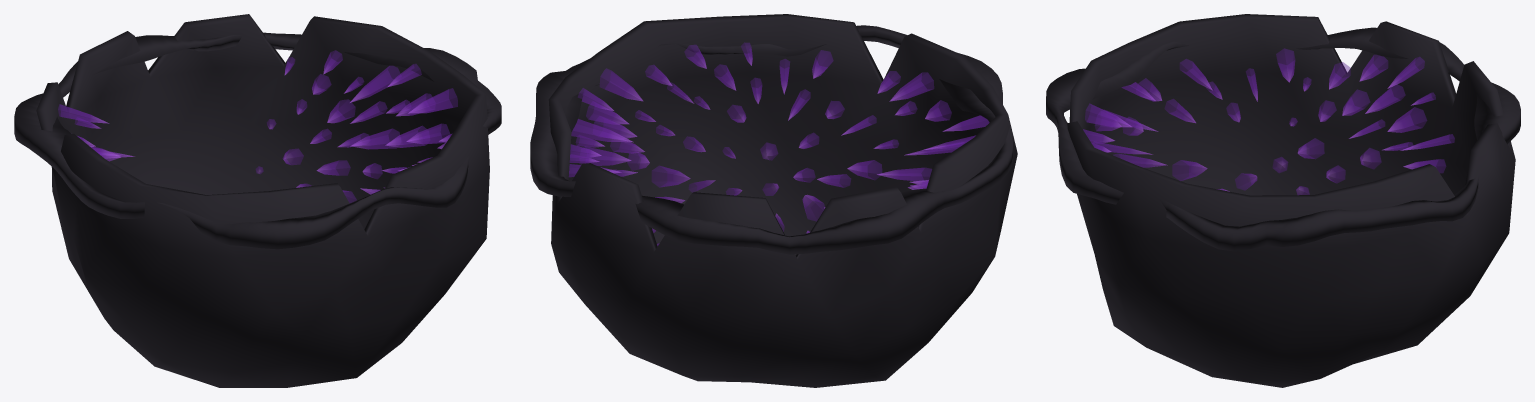
3 renders of one model, left to right at view 1: azimuth 30°, elevation 25°; view 2: azimuth 150°, elevation 25°; view 3: azimuth 270°, elevation 25°, orthographic. The views are drawn at different scales.
Visible parts, largest first — view 1: shell, rim, crystals; view 2: shell, rim, crystals; view 3: shell, rim, crystals.
Boxes of the visible parts, left/top/right/bottom form: shell: left=36, top=14, right=489, bottom=387; rim: left=14, top=32, right=501, bottom=249; crystals: left=58, top=50, right=457, bottom=202; shell: left=548, top=14, right=1017, bottom=387; rim: left=530, top=25, right=1012, bottom=254; crystals: left=568, top=42, right=989, bottom=246; shell: left=1067, top=14, right=1515, bottom=387; rim: left=1046, top=27, right=1520, bottom=251; crystals: left=1083, top=48, right=1454, bottom=194.
Bounding box in the file's own units: 3.23 × 1.92 × 3.23.
